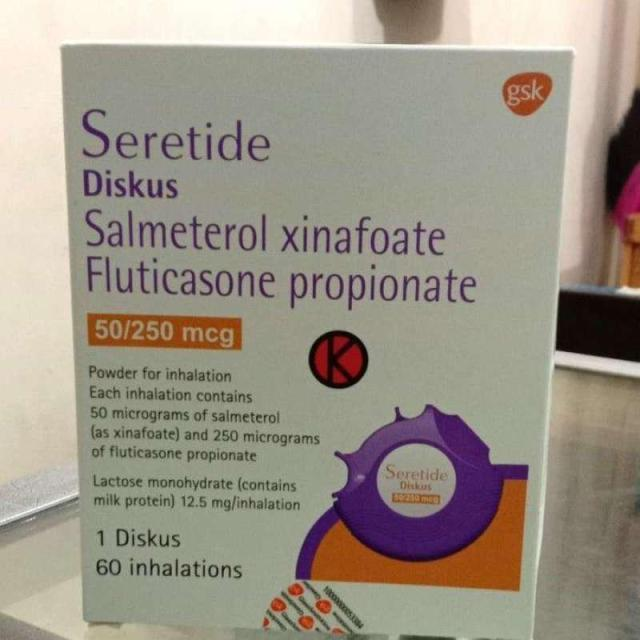drug-name: (80, 104, 272, 164)
